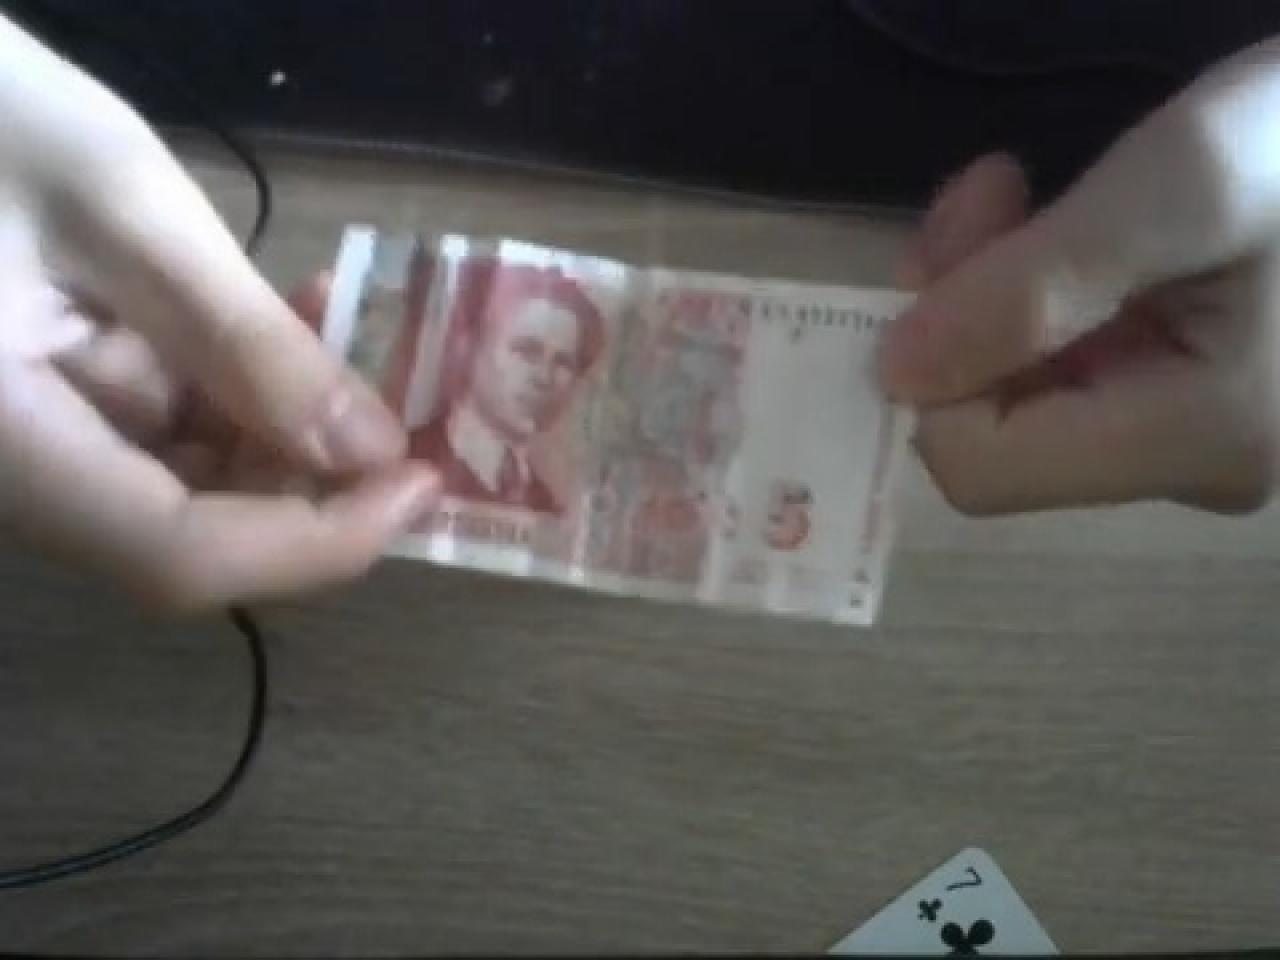5leva: (413, 264, 608, 522)
